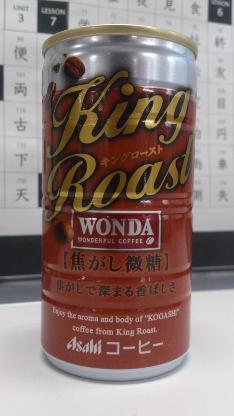Can: (41, 25, 196, 381)
